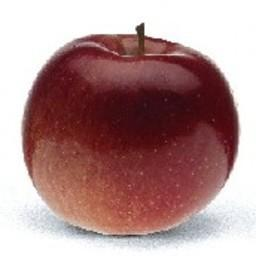apple: (22, 25, 239, 236)
